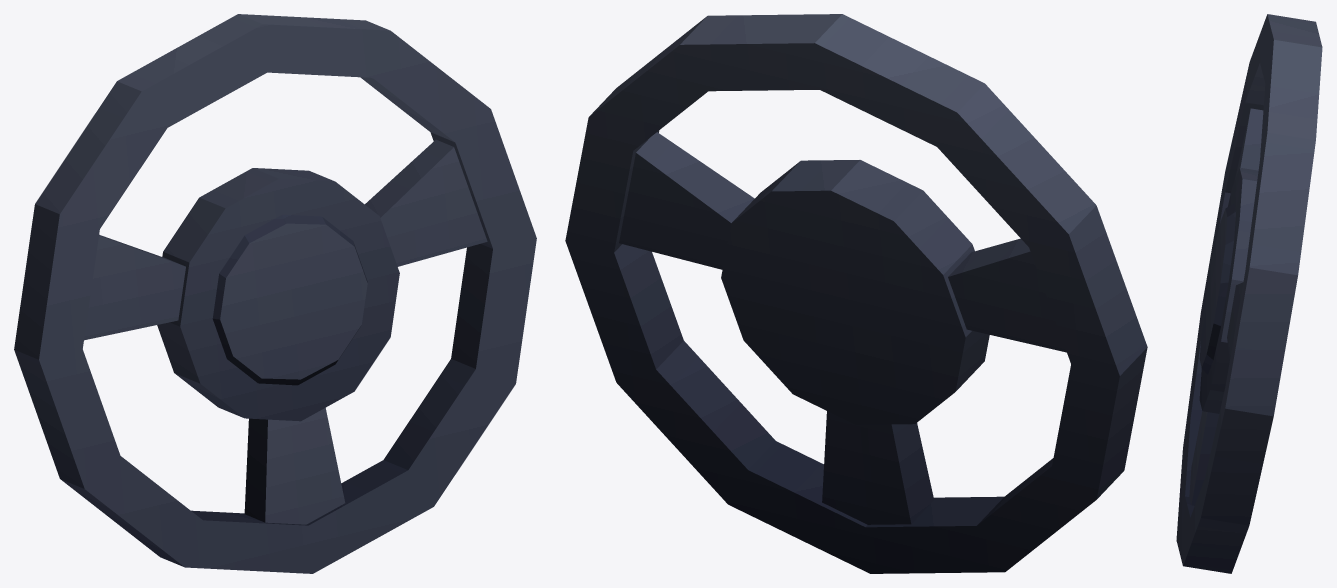
File: setir.fbx
3 views of the same model, side by side, from view 1: azimuth 30°, elevation 25°; view 2: azimuth 150°, elevation 25°; view 3: azimuth 270°, elevation 25° (orthographic). The views are drawn at different scales.
Parts seen in each view (by area): view 1: Circle.002; view 2: Circle.002; view 3: Circle.002.
Boxes of the visible parts, x1,y1,x2,y2 form: Circle.002: (14, 14, 536, 573); Circle.002: (565, 14, 1147, 573); Circle.002: (1176, 14, 1322, 573).
Size of the model in its own units: 72.82 by 72.82 by 18.95.
